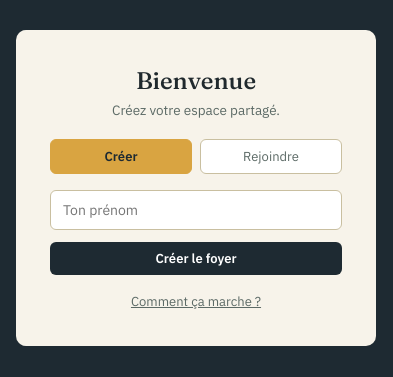
Test: Bienvenue (création / rejoindre un foyer) › affiche une erreur si la création échoue, et permet de réessayer
Type "Alice" into the field with placeholder "Ton prénom" at (196, 210), box [50,190,342,230]
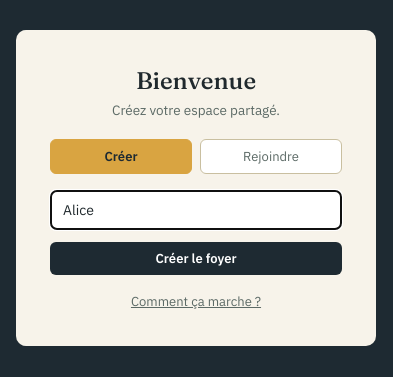
Click the button "Créer le foyer" at (196, 258), box [50,242,342,275]
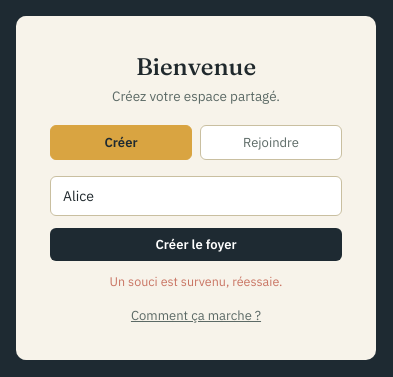
expect the button "Créer le foyer" is enabled: met, box [50,228,342,261]
expect the text "Un souci est survenu, réessaie." is shown: met, box [110,273,282,289]
